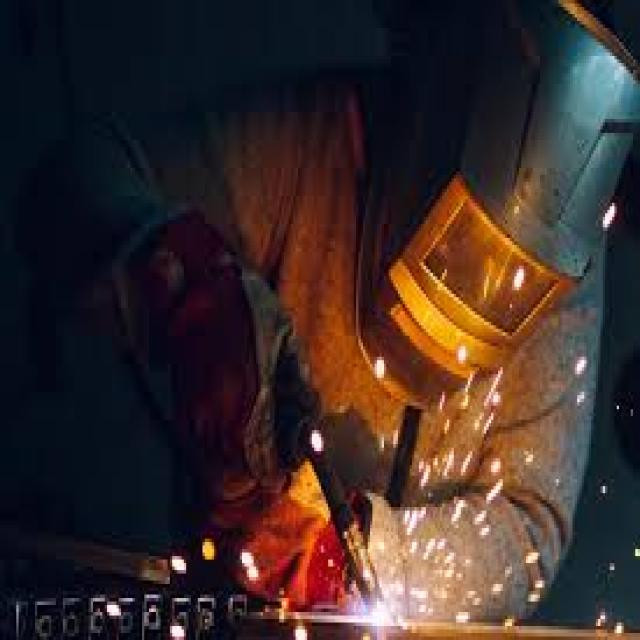welding: (373, 598, 389, 626)
